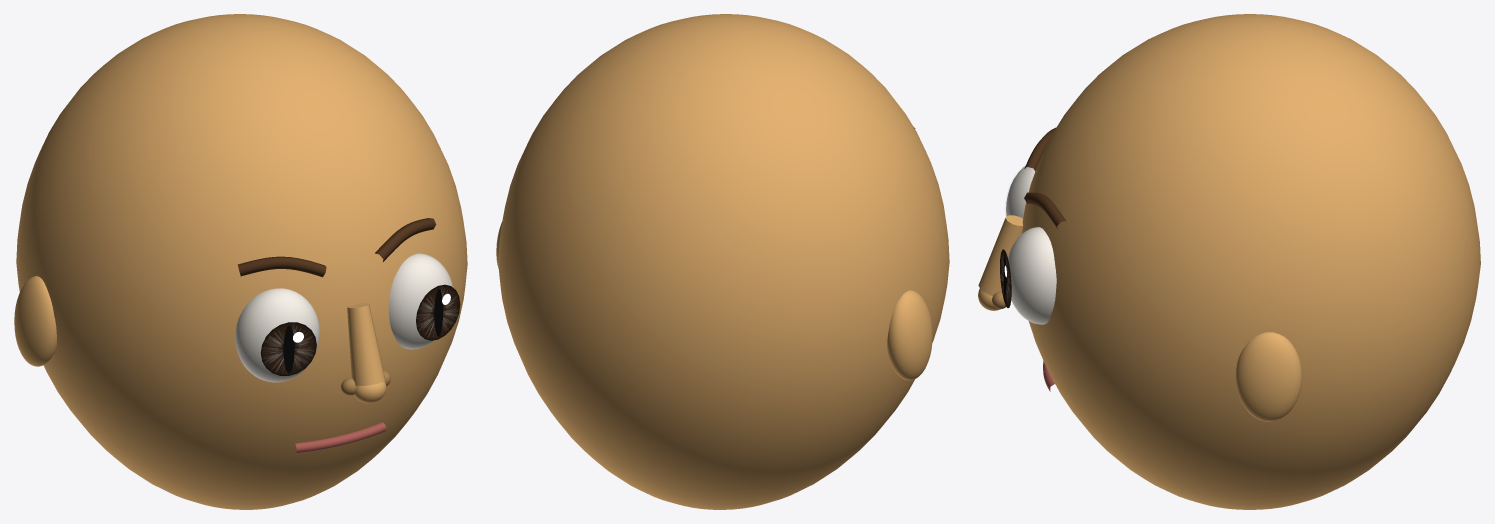
Rendered from 08-pupille-en-fente.glb.
3 views of the same model, side by side, from view 1: azimuth 30°, elevation 25°; view 2: azimuth 150°, elevation 25°; view 3: azimuth 270°, elevation 25° (orthographic).
Bounding box in the file's own units: 0.3087 × 0.321 × 0.3166.
9 materials, 1 textured.
